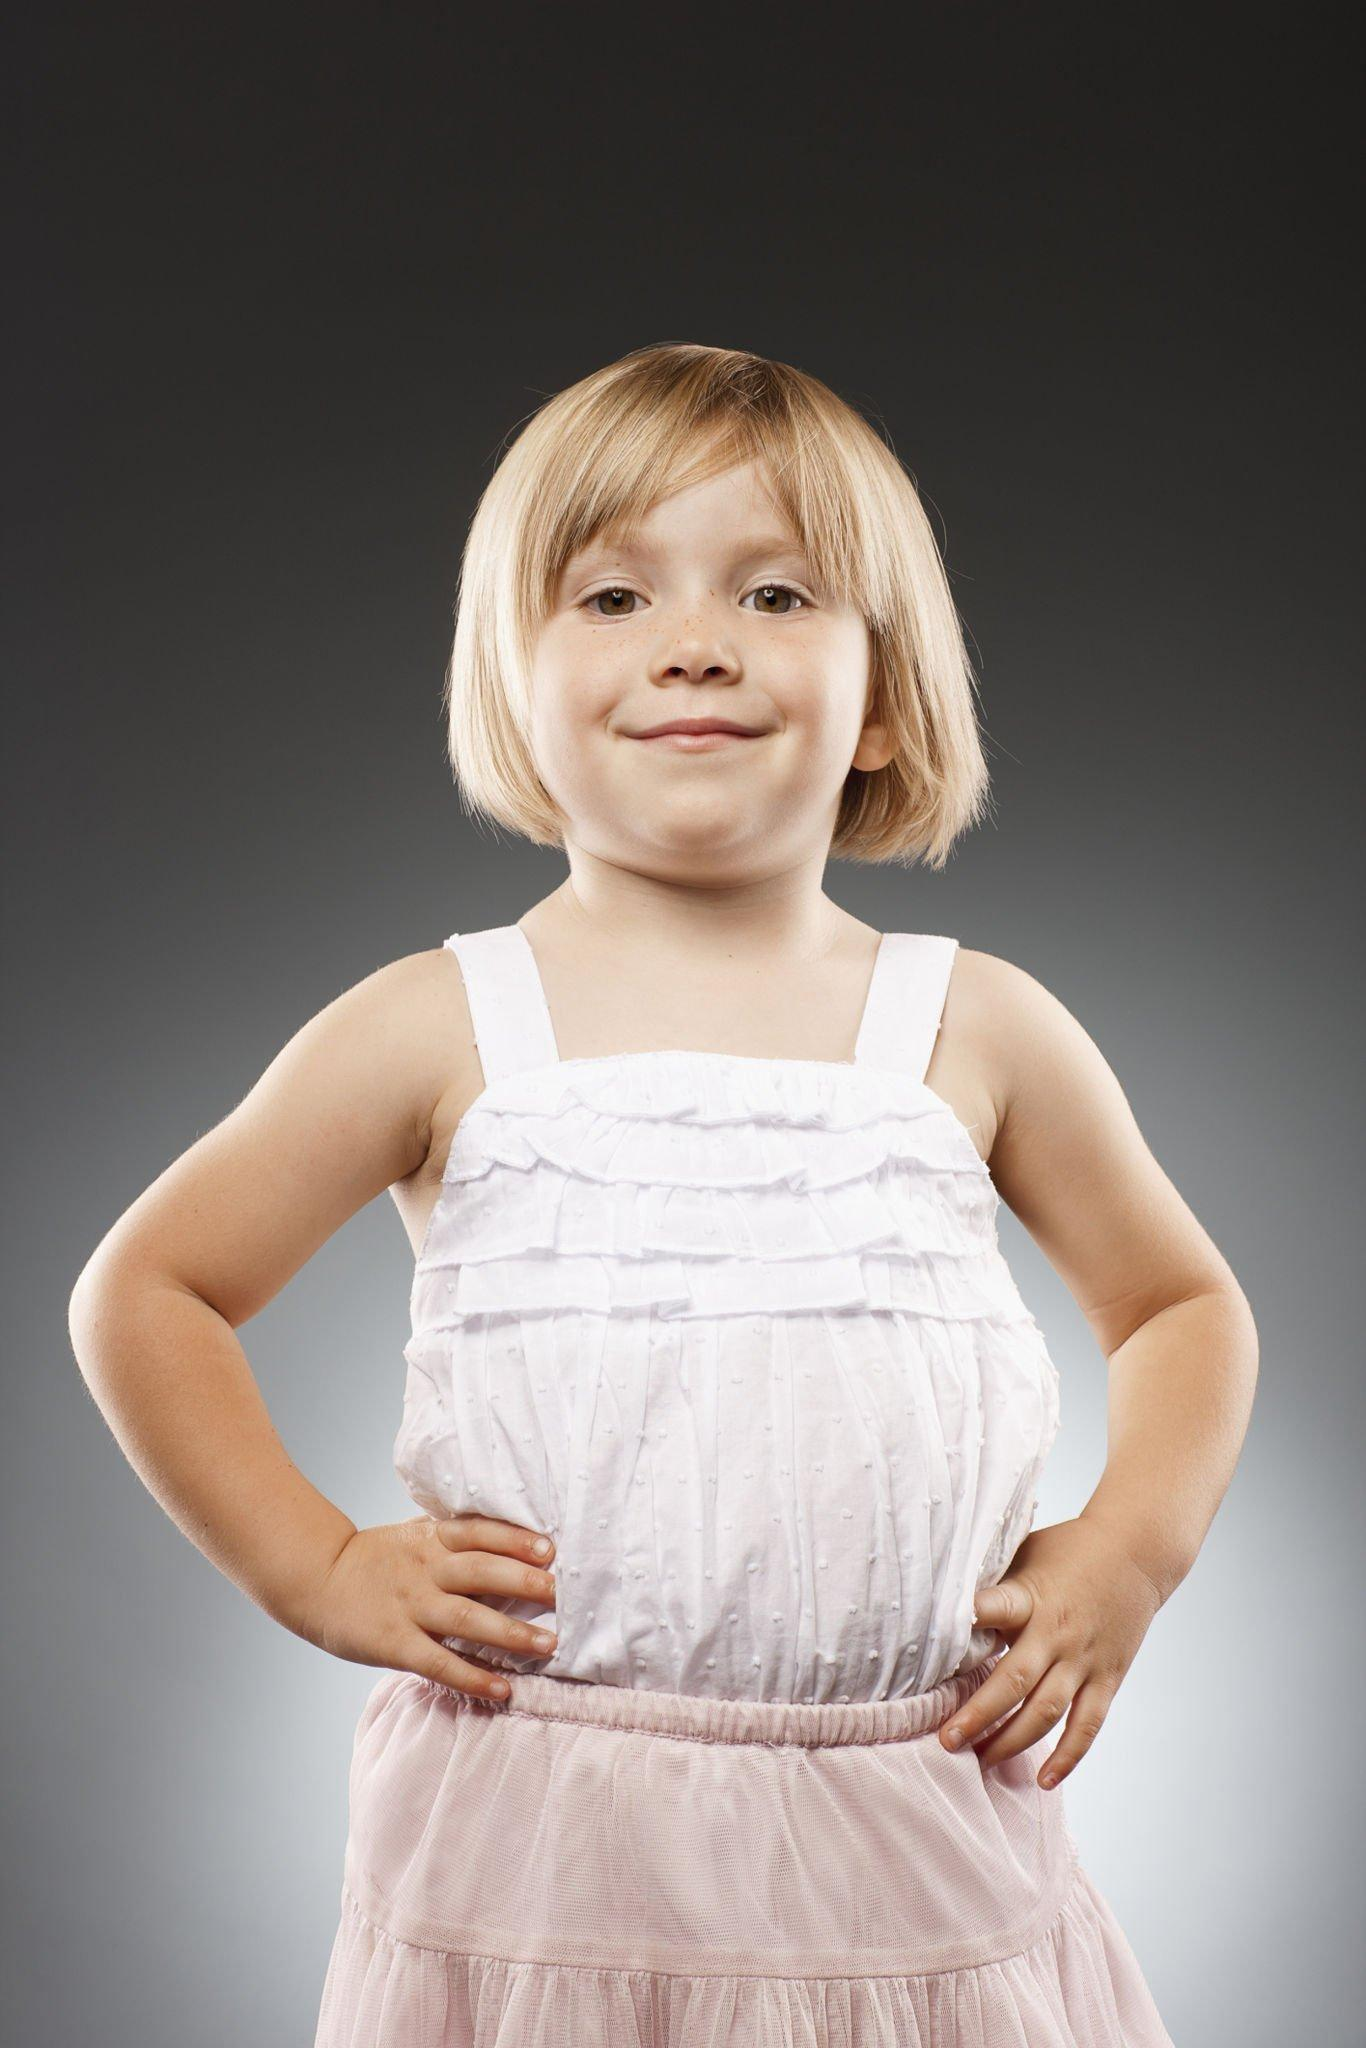Healthy: (447, 396, 880, 873)
